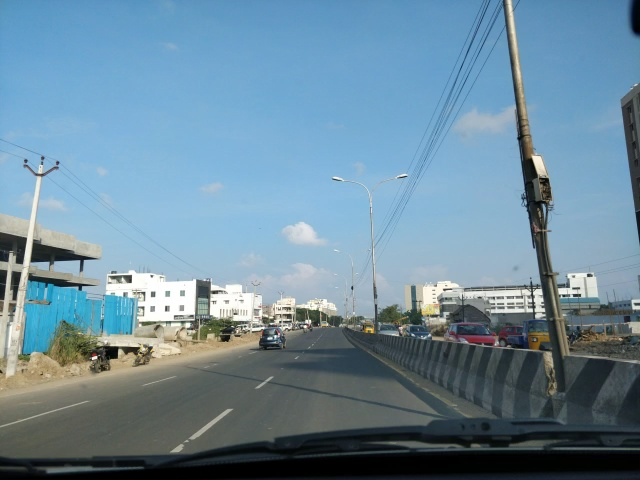car: (444, 324, 501, 348), (256, 326, 294, 356), (498, 324, 525, 347), (402, 327, 435, 344), (376, 324, 403, 340), (277, 322, 291, 333), (250, 325, 267, 333)
motorbike: (87, 347, 116, 376), (132, 341, 156, 369), (300, 324, 311, 334), (320, 320, 328, 329)
truck: (499, 317, 564, 349), (362, 320, 374, 338)
